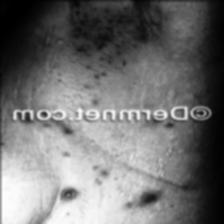Non-Cancerous Skin Condition: (118, 189, 158, 209), (88, 162, 108, 184), (59, 186, 79, 202), (62, 126, 72, 134)
